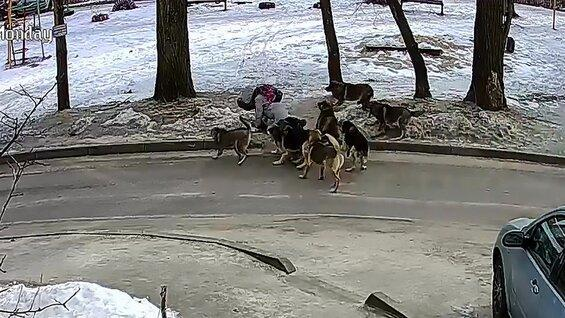dog_aggressive: (210, 116, 251, 167), (325, 80, 375, 111)
normal_dogs: (300, 128, 345, 194), (363, 99, 426, 142), (340, 119, 370, 172), (267, 124, 302, 166), (316, 100, 341, 139)
